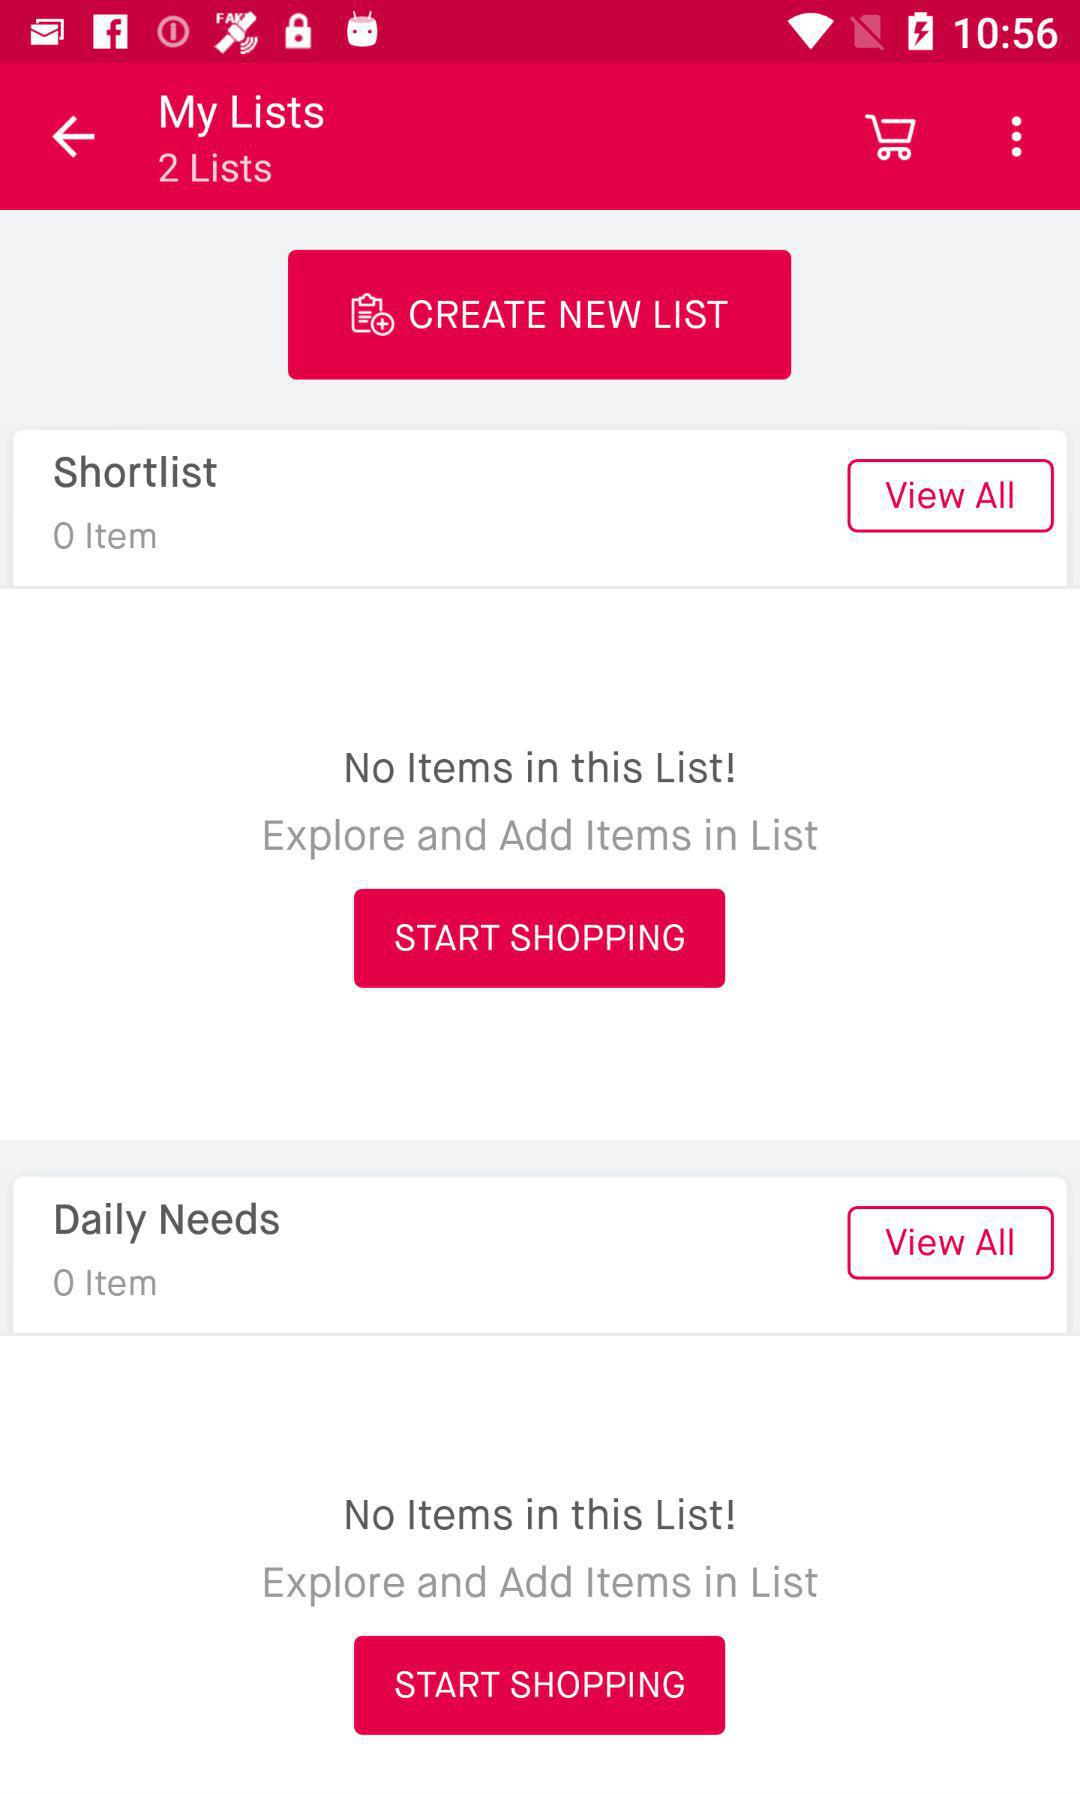Icon: (863, 113, 917, 161), (51, 117, 96, 160), (1010, 115, 1024, 159)
Text: (265, 1565, 819, 1608), (264, 818, 817, 861), (346, 1497, 734, 1531), (346, 752, 734, 784), (56, 1201, 281, 1246), (160, 94, 325, 141), (54, 454, 218, 490), (159, 152, 273, 185), (54, 522, 158, 551), (54, 1269, 158, 1297)
TextButton: (287, 250, 792, 382), (354, 888, 726, 989), (354, 1635, 726, 1736), (846, 1205, 1054, 1281), (847, 457, 1054, 534)
Toolbar: (1, 65, 1080, 213)
UpperTaskBar: (1, 1, 1080, 64)
